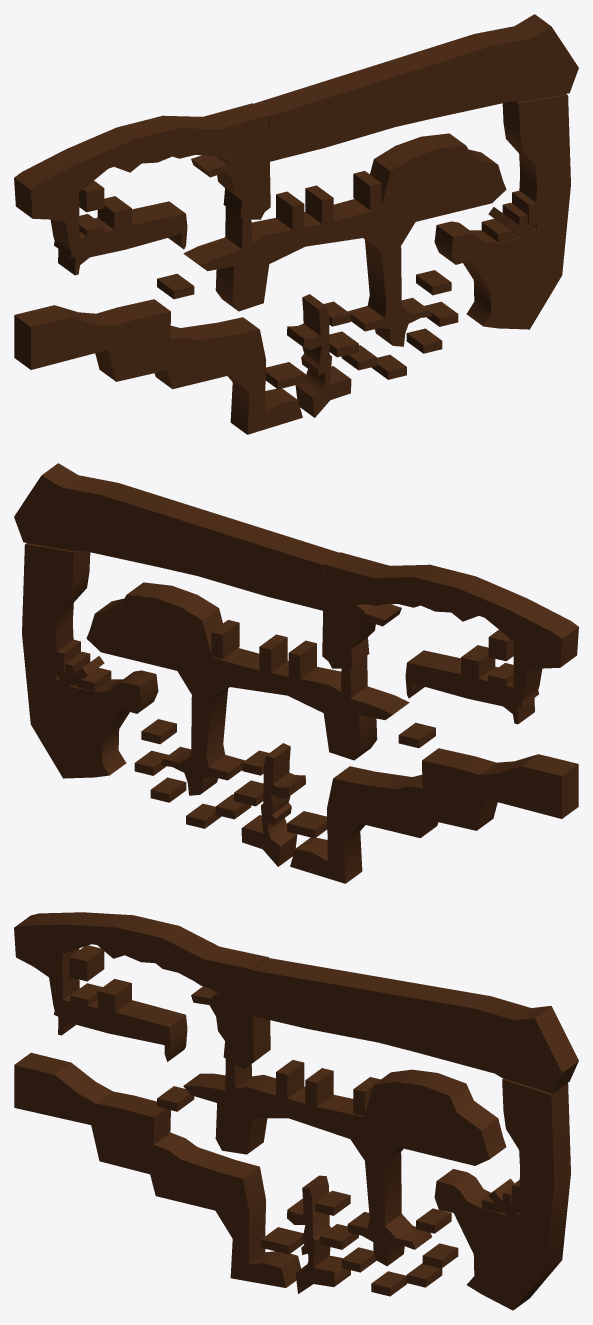
The model's file is forest_heim_level_02.FBX.
3 views of the same model, one above another, from view 1: azimuth 30°, elevation 25°; view 2: azimuth 150°, elevation 25°; view 3: azimuth 330°, elevation 25° (orthographic).
Visible parts, largest first — view 1: BAISIC_15, BAISIC_02, BAISIC_14, BAISIC_01, BAISIC_16, BAISIC_11, BAISIC_17, BAISIC_18, BAISIC_21, BAISIC_19, BAISIC_20, BAISIC_03 (+9 smaller); view 2: BAISIC_15, BAISIC_02, BAISIC_14, BAISIC_01, BAISIC_16, BAISIC_11, BAISIC_17, BAISIC_18, BAISIC_19, BAISIC_20, BAISIC_21, BAISIC_03 (+8 smaller); view 3: BAISIC_15, BAISIC_02, BAISIC_14, BAISIC_01, BAISIC_16, BAISIC_11, BAISIC_23, BAISIC_17, BAISIC_21, BAISIC_19, BAISIC_20, BAISIC_12 (+11 smaller).
Part boxes in pixels (x1,y1,x2,y2): BAISIC_15: (253,14,578,161); BAISIC_02: (183,133,506,346); BAISIC_14: (14,103,270,275); BAISIC_01: (14,299,302,434); BAISIC_16: (434,94,570,329); BAISIC_11: (287,294,351,417); BAISIC_17: (481,190,536,242); BAISIC_18: (353,171,381,210); BAISIC_21: (97,196,131,232); BAISIC_19: (305,185,333,223); BAISIC_20: (276,191,304,229); BAISIC_03: (225,206,251,248); BAISIC_15: (14,463,339,610); BAISIC_02: (86,582,409,795); BAISIC_14: (322,552,578,724); BAISIC_01: (290,748,578,883); BAISIC_16: (22,543,158,778); BAISIC_11: (241,743,305,866); BAISIC_17: (55,639,111,691); BAISIC_18: (211,620,239,659); BAISIC_19: (259,634,287,673); BAISIC_20: (288,640,316,679); BAISIC_21: (461,645,495,681); BAISIC_03: (340,655,367,698); BAISIC_15: (253,958,578,1093); BAISIC_02: (183,1069,506,1266); BAISIC_14: (14,912,270,1069); BAISIC_01: (14,1052,300,1287); BAISIC_16: (434,1078,570,1310); BAISIC_11: (287,1175,350,1293); BAISIC_23: (69,945,104,981); BAISIC_17: (481,1178,519,1216); BAISIC_21: (97,979,131,1015); BAISIC_19: (305,1068,333,1106); BAISIC_20: (276,1060,304,1098); BAISIC_12: (261,1227,303,1254).
Size of the model in its own units: 94.04 by 54.8 by 5.
